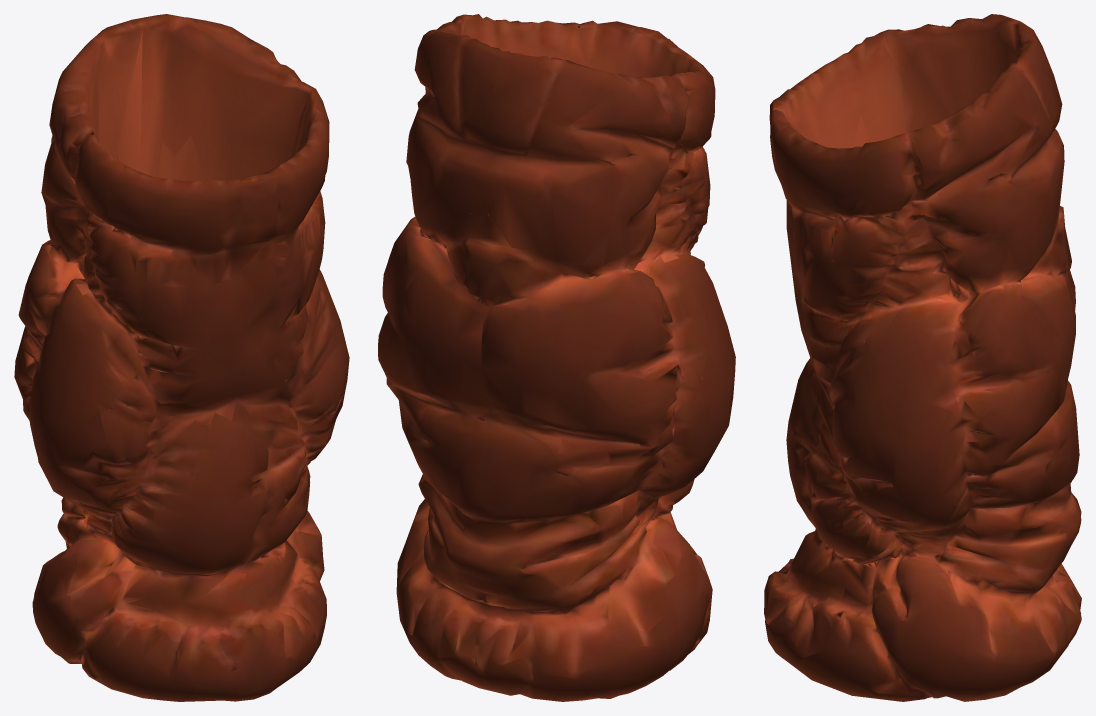
Rendered from 02_4_gs_pv_ii_s_vase-opt-v7.glb.
3 renders of one model, left to right at view 1: azimuth 30°, elevation 25°; view 2: azimuth 150°, elevation 25°; view 3: azimuth 270°, elevation 25°, orthographic. The views are drawn at different scales.
Parts seen in each view (by area): view 1: tripo_material_30cd3fdd-a4f8-4ca0-9b30-f44c7f31c2cc.007; view 2: tripo_material_30cd3fdd-a4f8-4ca0-9b30-f44c7f31c2cc.007; view 3: tripo_material_30cd3fdd-a4f8-4ca0-9b30-f44c7f31c2cc.007.
Boxes of the visible parts, left/top/right/bottom form: tripo_material_30cd3fdd-a4f8-4ca0-9b30-f44c7f31c2cc.007: left=14, top=14, right=349, bottom=701; tripo_material_30cd3fdd-a4f8-4ca0-9b30-f44c7f31c2cc.007: left=378, top=14, right=735, bottom=701; tripo_material_30cd3fdd-a4f8-4ca0-9b30-f44c7f31c2cc.007: left=764, top=14, right=1081, bottom=701.
Bounding box in the file's own units: 0.1799 × 0.3401 × 0.1599.
Materials: 1 (1 with a texture image).
